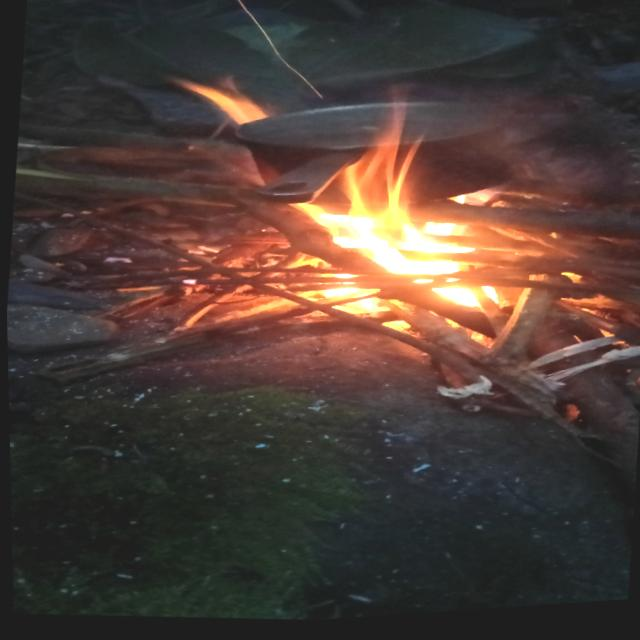helmet: (272, 79, 516, 355), (169, 71, 274, 135)
